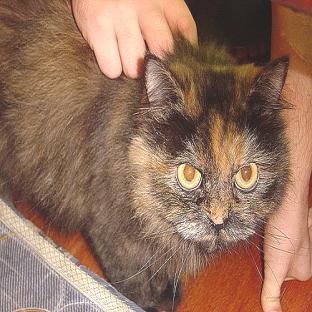Animal: (0, 0, 290, 310)
